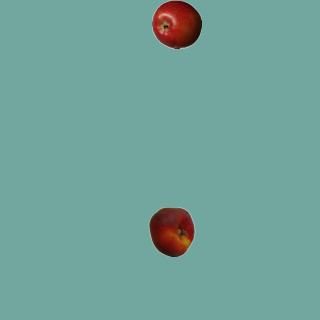Apple Braeburn: (151, 0, 201, 49)
Nectarine Flat: (146, 206, 196, 256)
